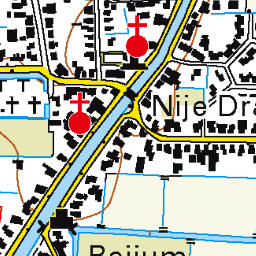church: (120, 13, 151, 61), (65, 90, 95, 137)
